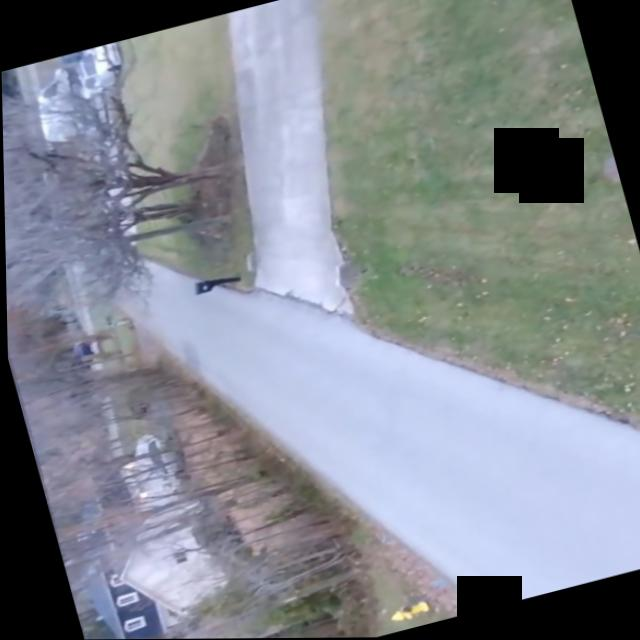Pole: (71, 534, 388, 640), (3, 189, 246, 289)
Tree: (0, 22, 256, 336), (44, 449, 284, 561), (30, 404, 223, 503), (13, 348, 189, 447)
